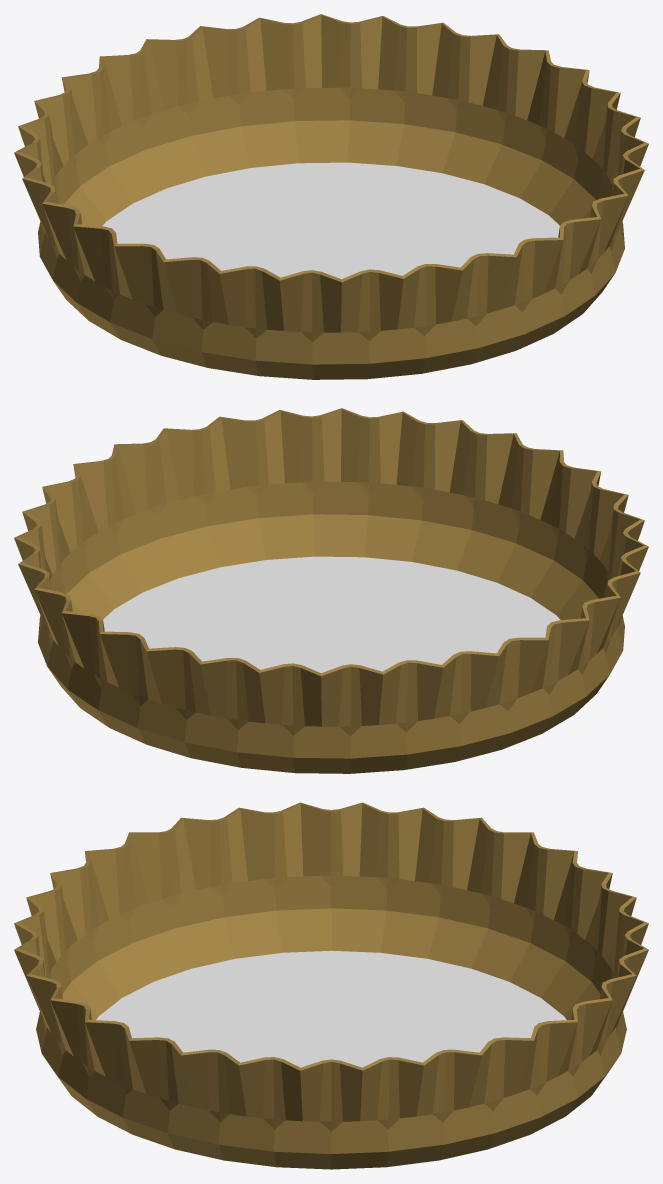
The model's file is bottlecap.glb.
3 renders of one model, top to bottom at view 1: azimuth 30°, elevation 25°; view 2: azimuth 150°, elevation 25°; view 3: azimuth 270°, elevation 25°, orthographic.
Visible parts, largest first — view 1: Circle, Circle.001; view 2: Circle, Circle.001; view 3: Circle, Circle.001.
Part boxes in pixels (<box>): Circle: <box>14,14,648,379</box>; Circle.001: <box>102,162,559,279</box>; Circle: <box>14,408,648,773</box>; Circle.001: <box>103,556,560,673</box>; Circle: <box>14,802,648,1169</box>; Circle.001: <box>96,950,566,1067</box>.
Bounding box in the file's own units: 12.84 × 2.81 × 12.84.
